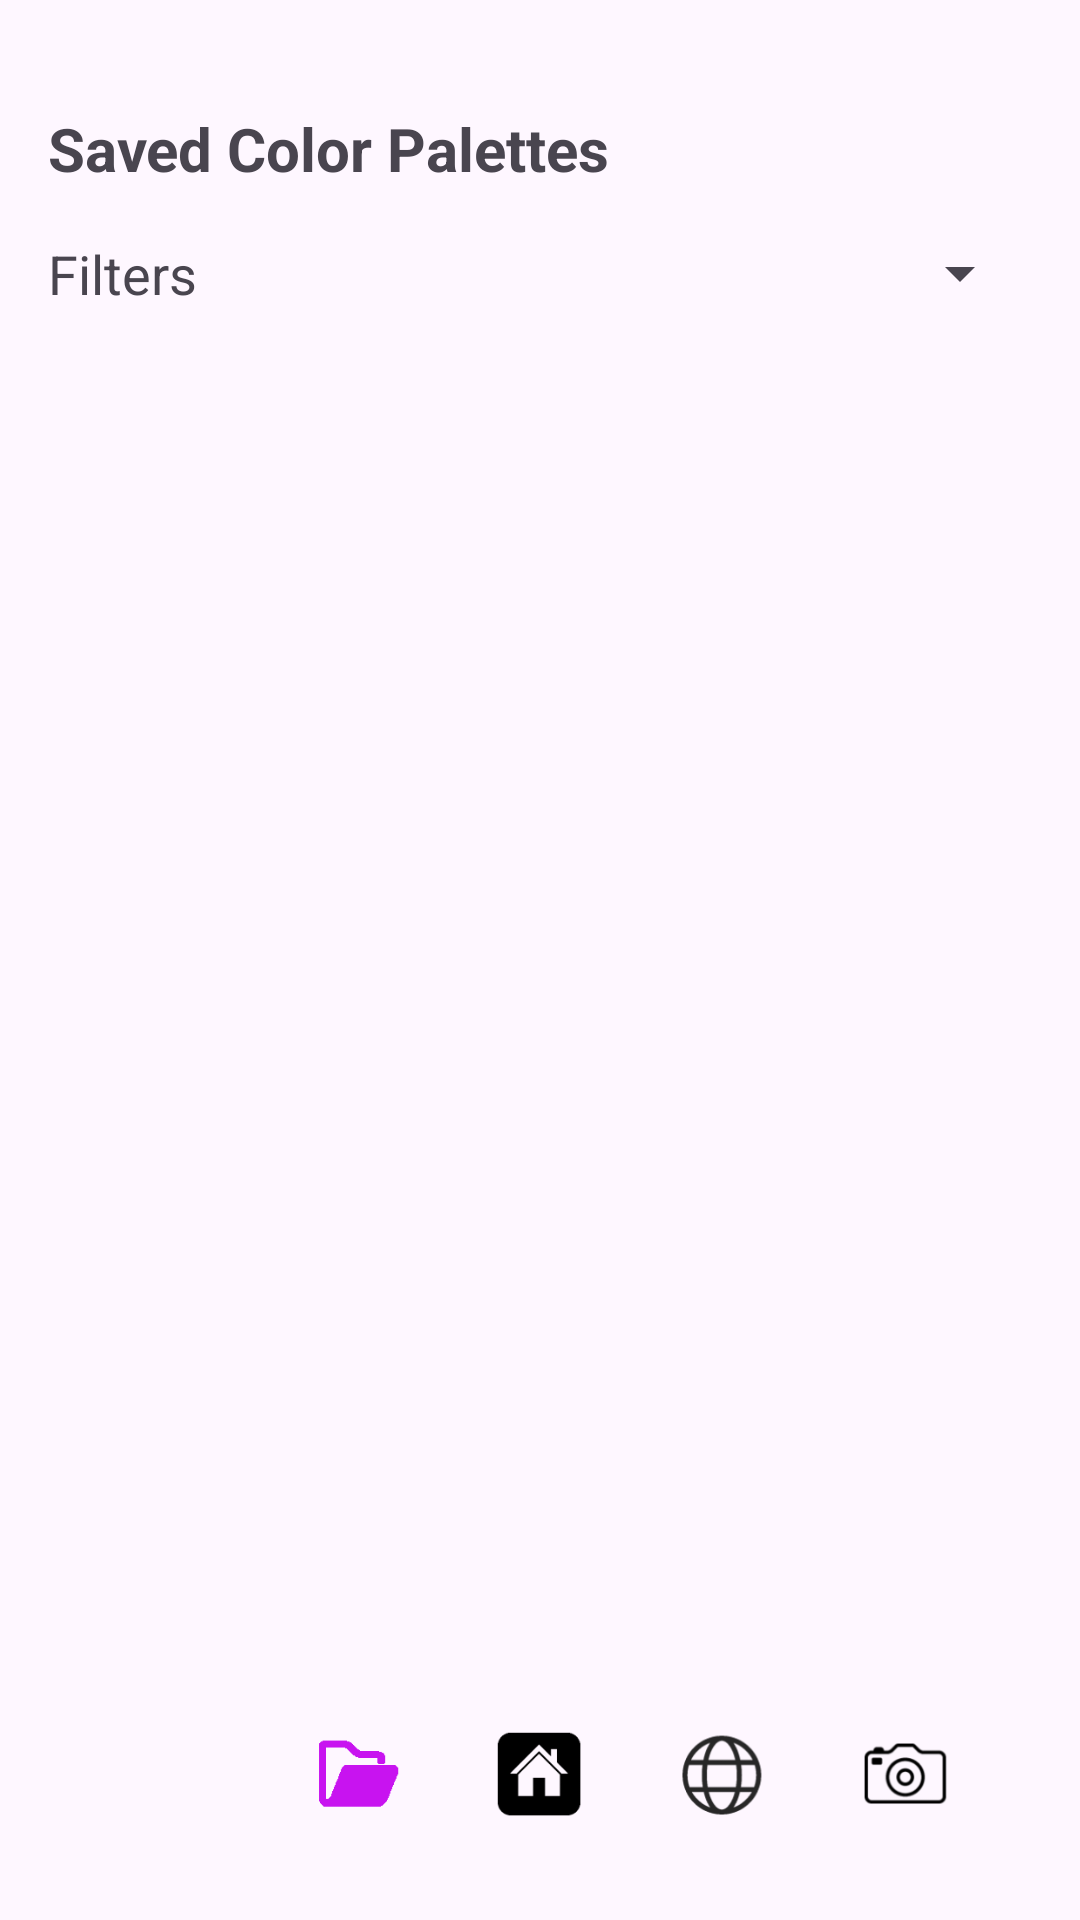

Where icons sit on this 1080px×1920px app screen, as (x1, y1, x2, y2):
camera: (864, 1743, 947, 1804)
home: (497, 1732, 581, 1816)
open current: (319, 1740, 399, 1807)
